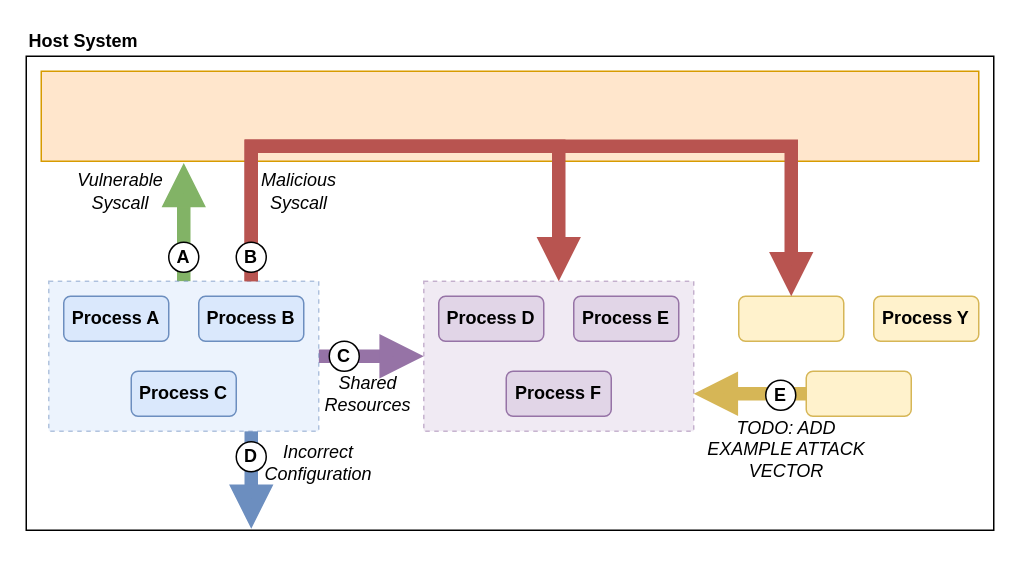
The diagram is 1020 pixels wide and 573 high, and some of its shapes have lost their labels. Each missing label, with the centre of its shape:
"Operating System Kernel" belongs at pixel 509 115.
"Process X" belongs at pixel 790 318.
"Process Z" belongs at pixel 858 393.
